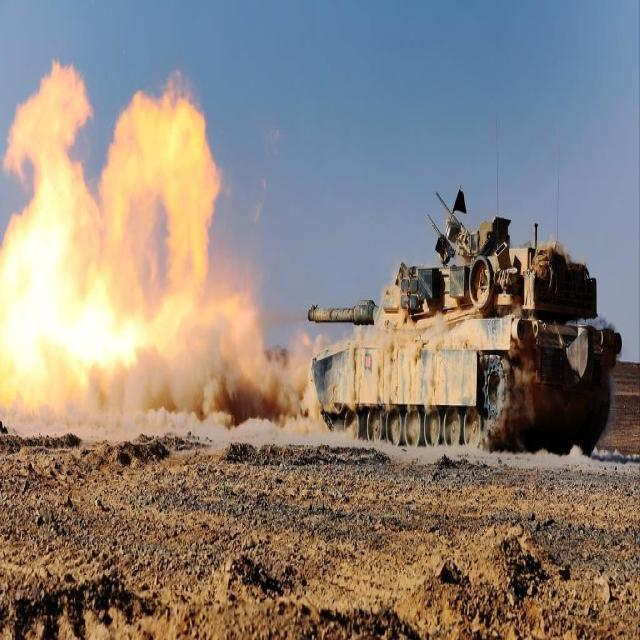Tanks: (292, 191, 618, 523)
